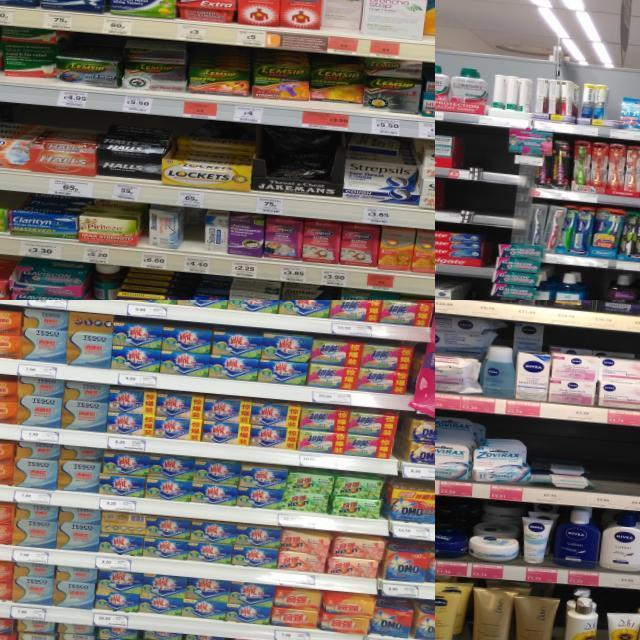empty: (443, 181, 512, 227), (589, 426, 624, 508), (464, 128, 506, 182), (620, 427, 640, 511), (588, 269, 609, 300), (460, 285, 483, 300)
